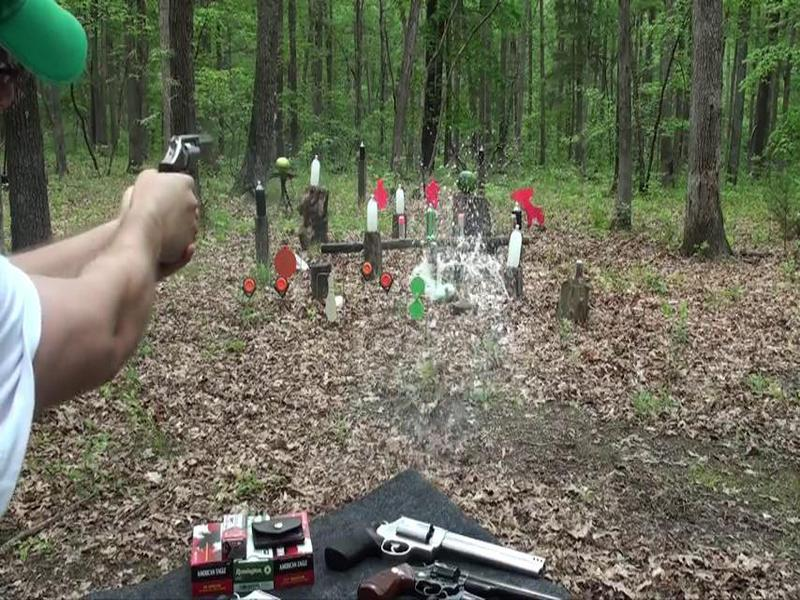Revolver: (141, 127, 231, 210)
